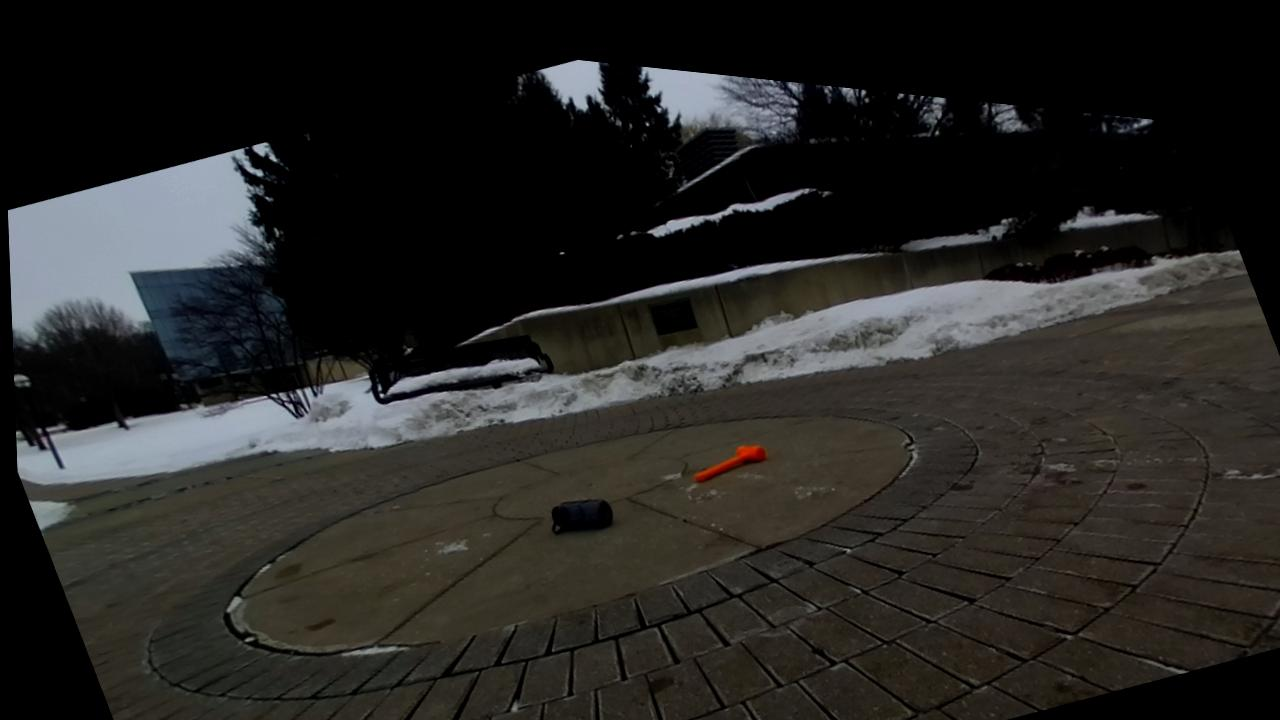bottle: (551, 499, 612, 533)
mallet: (694, 447, 763, 482)
